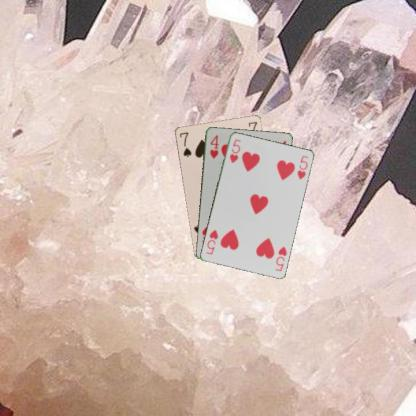4h: (207, 132, 219, 160)
5h: (272, 244, 288, 272), (227, 136, 242, 164)
7s: (177, 130, 192, 158)
